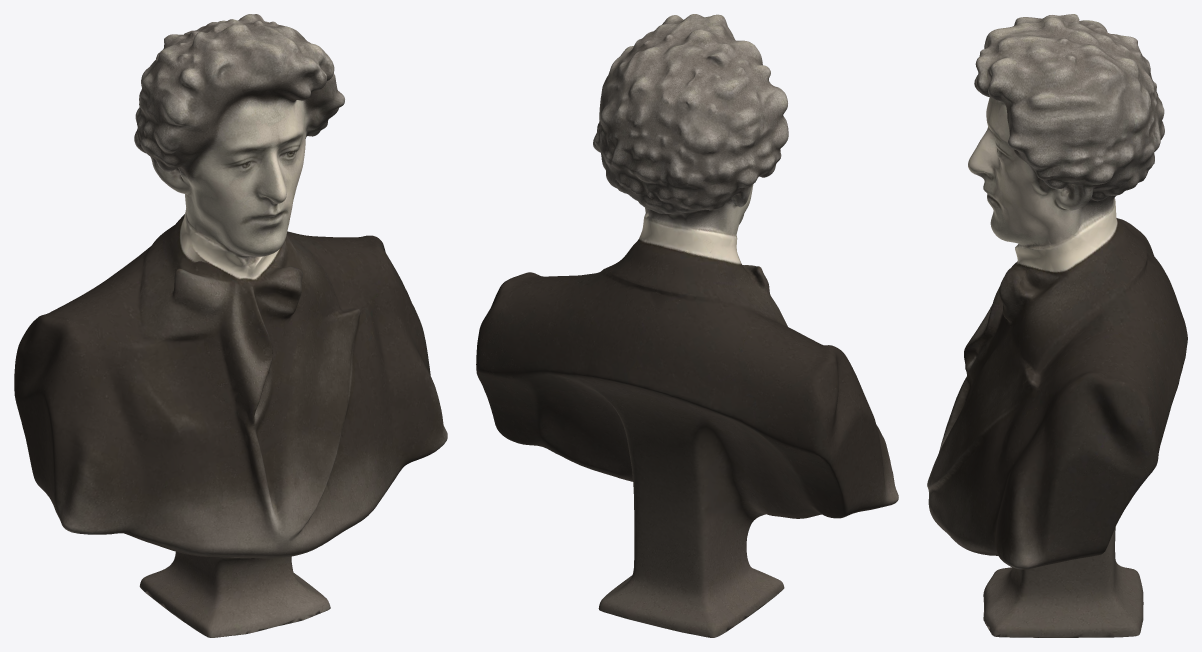
3 views of the same model, side by side, from view 1: azimuth 30°, elevation 25°; view 2: azimuth 150°, elevation 25°; view 3: azimuth 270°, elevation 25° (orthographic). The views are drawn at different scales.
Size of the model in its own units: 1.32 by 1.9 by 0.7657.
1 material, 1 textured.
